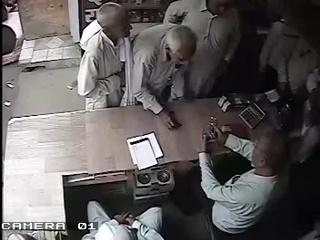Normal: (198, 120, 290, 240), (121, 24, 197, 131), (183, 0, 242, 100), (258, 8, 320, 98), (83, 200, 165, 240)
shoplifting: (76, 1, 133, 111)
